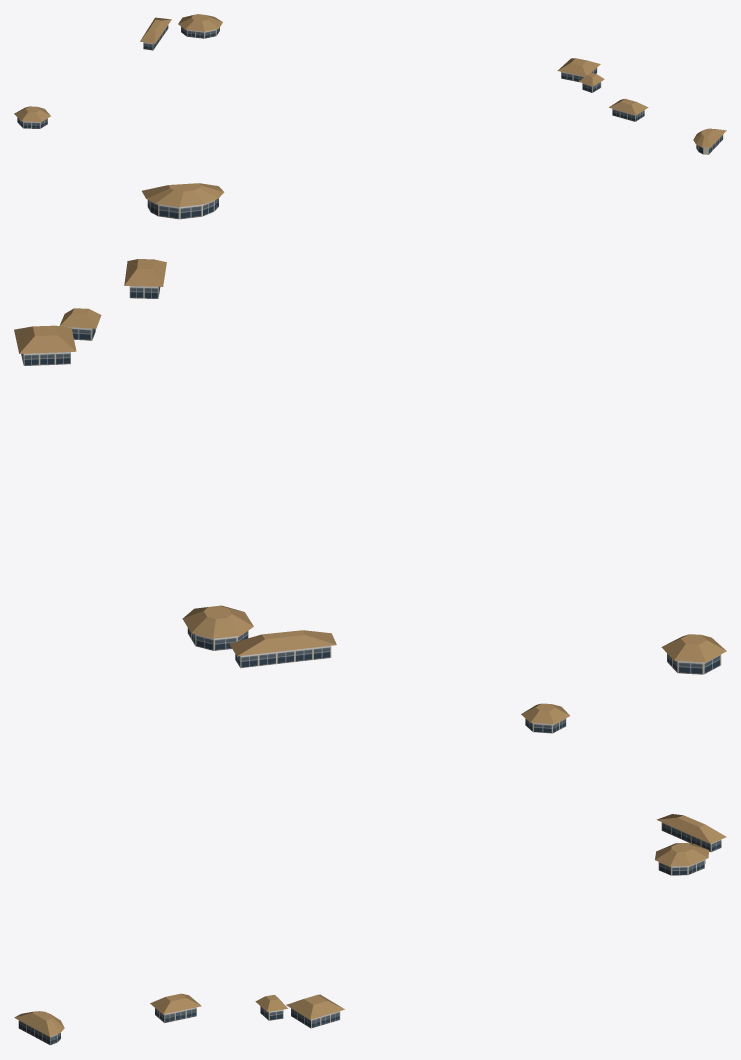
The model's file is renisland.glb.
3 renders of one model, top to bottom at view 1: azimuth 30°, elevation 25°; view 2: azimuth 150°, elevation 25°; view 3: azimuth 270°, elevation 25°, orthographic. The views are drawn at different scales.
Parts seen in each view (by area): view 1: renisland_lod0; view 2: renisland_lod0; view 3: renisland_lod0.
Part boxes in pixels (<box>): renisland_lod0: <box>14,14,726,154</box>; renisland_lod0: <box>14,183,726,674</box>; renisland_lod0: <box>14,703,726,1045</box>.
Size of what is drawn, in the model's own units: 211 by 5.4 by 191.
3 materials, 1 textured.
